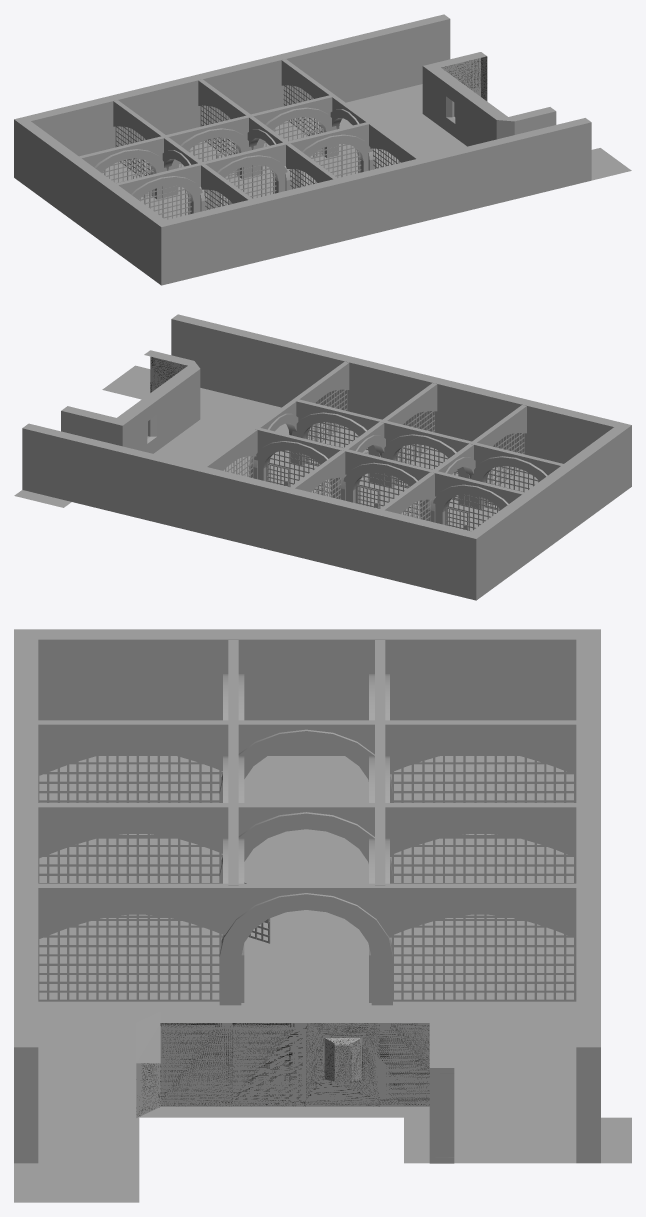
The model's file is DungeonV2.1.fbx.
3 renders of one model, top to bottom at view 1: azimuth 30°, elevation 25°; view 2: azimuth 150°, elevation 25°; view 3: azimuth 270°, elevation 25°, orthographic. The views are drawn at different scales.
Parts seen in each view (by area): view 1: pCube432, pCube422, pCube425, pCube430, pCube431, polySurface449, pCube424, pCube1__1_6, pCube423, pCube557, pCube558, polySurface476 (+23 smaller); view 2: pCube425, pCube422, pCube432, pCube423, pCube424, polySurface449, pCube431, pCube1__1_6, pCube430, pCube558, pCube557, polySurface475 (+24 smaller); view 3: pCube422, pCube1__1_6, pCube1__1_5, polySurface449, pCube1__1_4, polySurface476, polySurface473, polySurface475, pCube752, pCube751, pCube740, pCube741 (+16 smaller).
Part boxes in pixels (x1,y1,x2,y2): pCube432: (411,118,591,222); pCube422: (20,121,165,280); pCube425: (270,14,450,108); pCube430: (155,191,288,285); pCube431: (283,160,416,254); polySurface449: (422,52,556,146); pCube424: (142,57,275,134); pCube1__1_6: (282,89,466,174); pCube423: (14,88,147,181); pCube557: (116,121,370,194); pCube558: (79,94,333,166); polySurface476: (281,59,420,162); pCube425: (22,423,212,534); pCube422: (472,427,625,595); pCube432: (171,314,361,412); pCube423: (341,501,482,600); pCube424: (206,468,347,567); polySurface449: (61,350,200,453); pCube431: (356,359,496,441); pCube1__1_6: (153,393,348,483); pCube430: (490,392,631,490); pCube558: (255,427,524,503); pCube557: (294,399,563,475); polySurface475: (290,383,437,492); pCube422: (38,629,576,755); pCube1__1_6: (38,993,576,1117); pCube1__1_5: (39,869,573,993); polySurface449: (136,1011,454,1163); pCube1__1_4: (39,756,573,869); polySurface476: (38,883,576,939); polySurface473: (38,720,576,775); polySurface475: (38,803,576,858); pCube752: (14,1117,139,1202); pCube751: (404,1117,631,1163); pCube740: (389,914,576,1001); pCube741: (38,914,223,1001).
Bounding box in the file's own units: 44.22 × 5.29 × 25.27.
